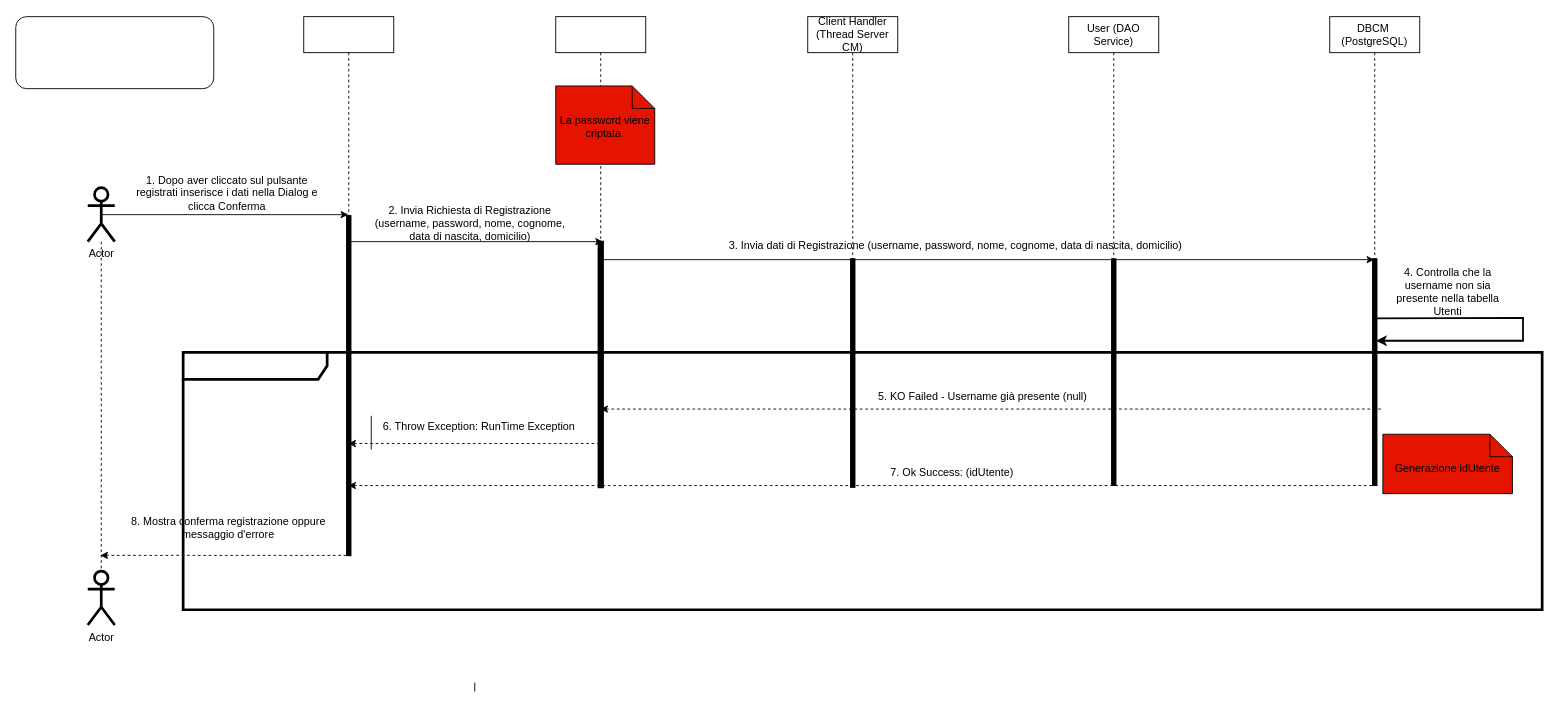
The diagram is 1559 pixels wide and 708 high, and some of its shapes have lost their labels. Here are the shapes that lost their labels. From the top down, the box of each, then its label:
(15, 16, 214, 89): Sequence diagram: registrazione cliente()
(555, 16, 646, 458): Application layer
(303, 16, 394, 512): Client GUI (Client CM)
(181, 351, 1543, 611): alt
